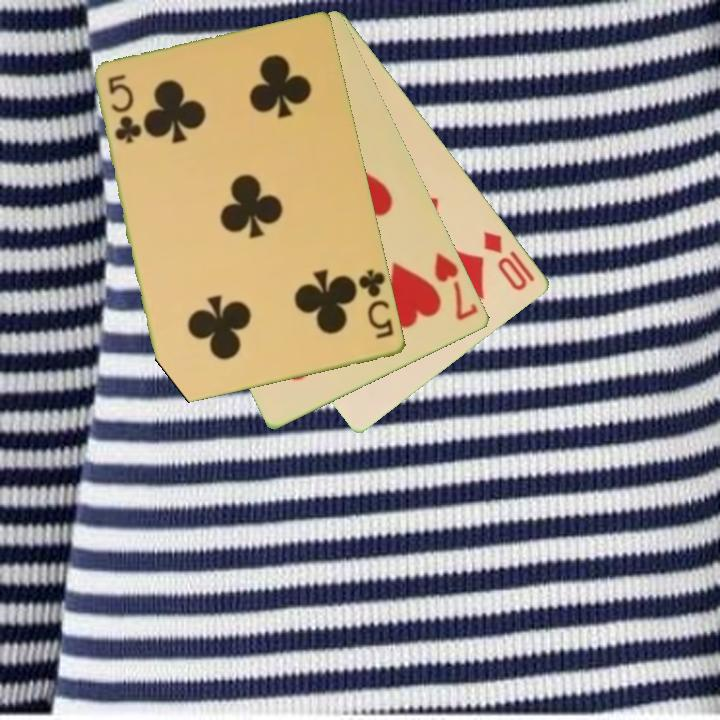10d: (480, 228, 531, 294)
5c: (352, 265, 397, 342), (105, 71, 143, 147)
7h: (431, 248, 481, 324)
